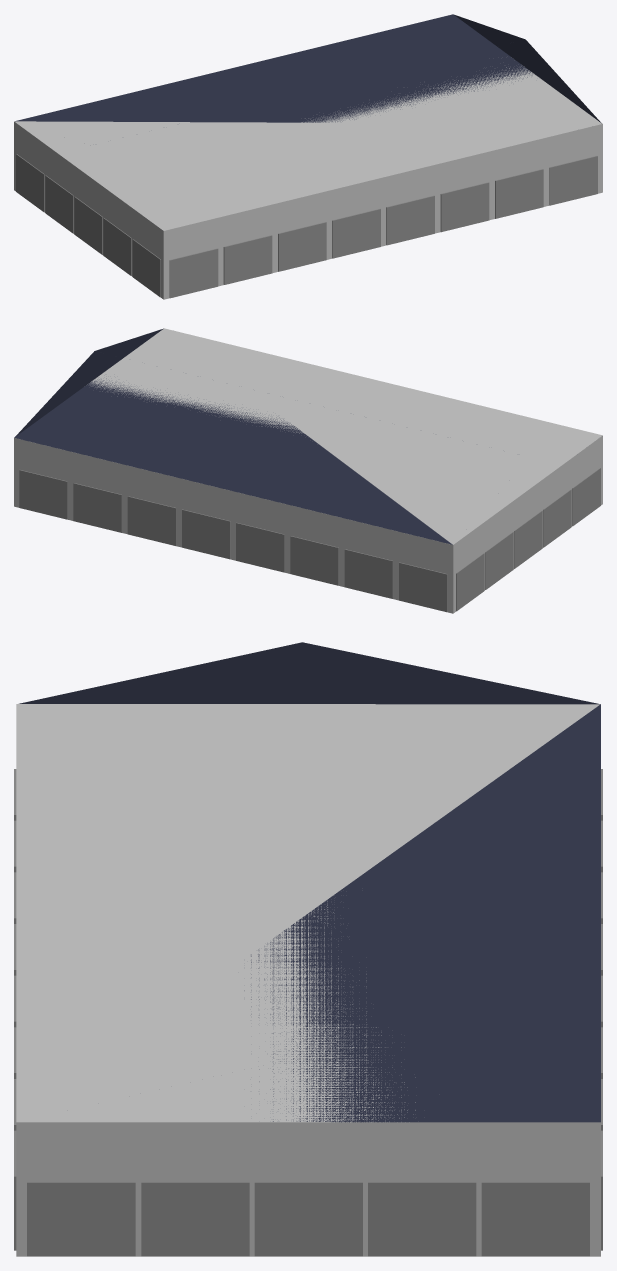
Rendered from warehouse.fbx.
The picture shows the model from 3 angles, top to bottom: view 1: azimuth 30°, elevation 25°; view 2: azimuth 150°, elevation 25°; view 3: azimuth 270°, elevation 25°; orthographic projection. The views are drawn at different scales.
Visible parts, largest first — view 1: Cube, Cube.001, Cube.018, Cube.013, Cube.012, Cube.016, Cube.015, Cube.014, Cube.017, Cube.019, Cube.010, Cube.007 (+3 smaller); view 2: Cube, Cube.001, Cube.021, Cube.026, Cube.023, Cube.020, Cube.025, Cube.027, Cube.022, Cube.024, Cube.011, Cube.009 (+3 smaller); view 3: Cube, Cube.001, Cube.002, Cube.005, Cube.003, Cube.004, Cube.006.
Part boxes in pixels (box(x1,y1,x2,y2)): Cube: box(14, 66, 602, 299); Cube.001: box(15, 14, 601, 123); Cube.018: box(440, 182, 489, 232); Cube.013: box(223, 235, 272, 284); Cube.012: box(169, 248, 218, 298); Cube.016: box(495, 169, 543, 218); Cube.015: box(278, 222, 326, 271); Cube.014: box(332, 208, 380, 258); Cube.017: box(549, 156, 597, 205); Cube.019: box(386, 195, 434, 245); Cube.010: box(45, 175, 73, 233); Cube.007: box(16, 154, 44, 212); Cube: box(14, 328, 602, 613); Cube.001: box(14, 328, 452, 544); Cube.021: box(127, 496, 176, 545); Cube.026: box(344, 549, 393, 598); Cube.023: box(73, 483, 121, 532); Cube.020: box(182, 509, 230, 559); Cube.025: box(236, 522, 284, 572); Cube.027: box(399, 562, 447, 612); Cube.022: box(19, 470, 67, 519); Cube.024: box(290, 536, 338, 585); Cube.011: box(543, 489, 571, 547); Cube.009: box(514, 510, 542, 568); Cube: box(16, 704, 600, 1256); Cube.001: box(19, 642, 600, 1122); Cube.002: box(141, 1182, 249, 1256); Cube.005: box(27, 1182, 135, 1256); Cube.003: box(368, 1182, 476, 1256); Cube.004: box(254, 1182, 362, 1256); Cube.006: box(481, 1182, 589, 1256).
Bounding box in the file's own units: 11250 × 2454 × 6674.
